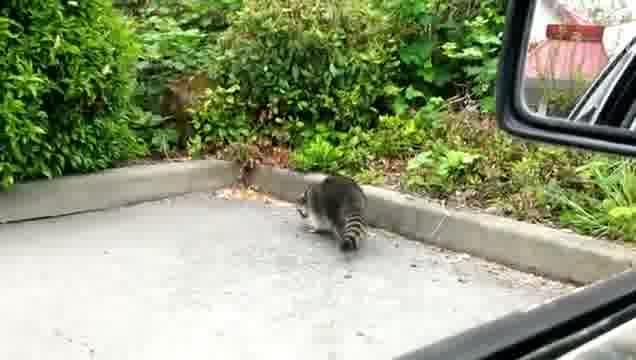raccoon: (296, 173, 366, 253)
